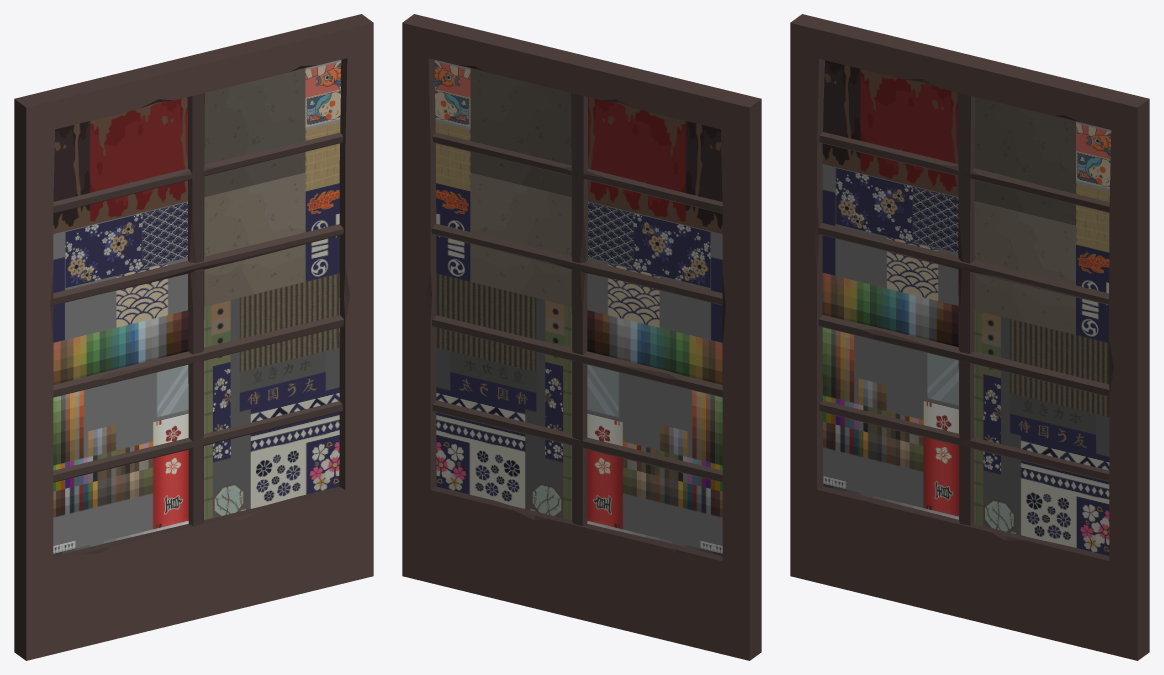
The model's file is samurai_SM_Bld_Sliding_Door_Single_01.gltf.
The picture shows the model from 3 angles, left to right: view 1: azimuth 30°, elevation 25°; view 2: azimuth 150°, elevation 25°; view 3: azimuth 330°, elevation 25°; orthographic projection.
Parts seen in each view (by area): view 1: SM_Bld_Sliding_Door_Single_01_Glass, SM_Bld_Sliding_Door_Single_01; view 2: SM_Bld_Sliding_Door_Single_01_Glass, SM_Bld_Sliding_Door_Single_01; view 3: SM_Bld_Sliding_Door_Single_01_Glass, SM_Bld_Sliding_Door_Single_01.
Boxes of the visible parts, x1,y1,x2,y2 form: SM_Bld_Sliding_Door_Single_01_Glass: (53, 60, 341, 556); SM_Bld_Sliding_Door_Single_01: (14, 14, 373, 660); SM_Bld_Sliding_Door_Single_01_Glass: (434, 60, 722, 556); SM_Bld_Sliding_Door_Single_01: (402, 14, 761, 660); SM_Bld_Sliding_Door_Single_01_Glass: (822, 60, 1111, 555); SM_Bld_Sliding_Door_Single_01: (790, 14, 1149, 660).
Bounding box in the file's own units: 1.72 × 2.61 × 0.1031.
2 materials, 2 textured.
